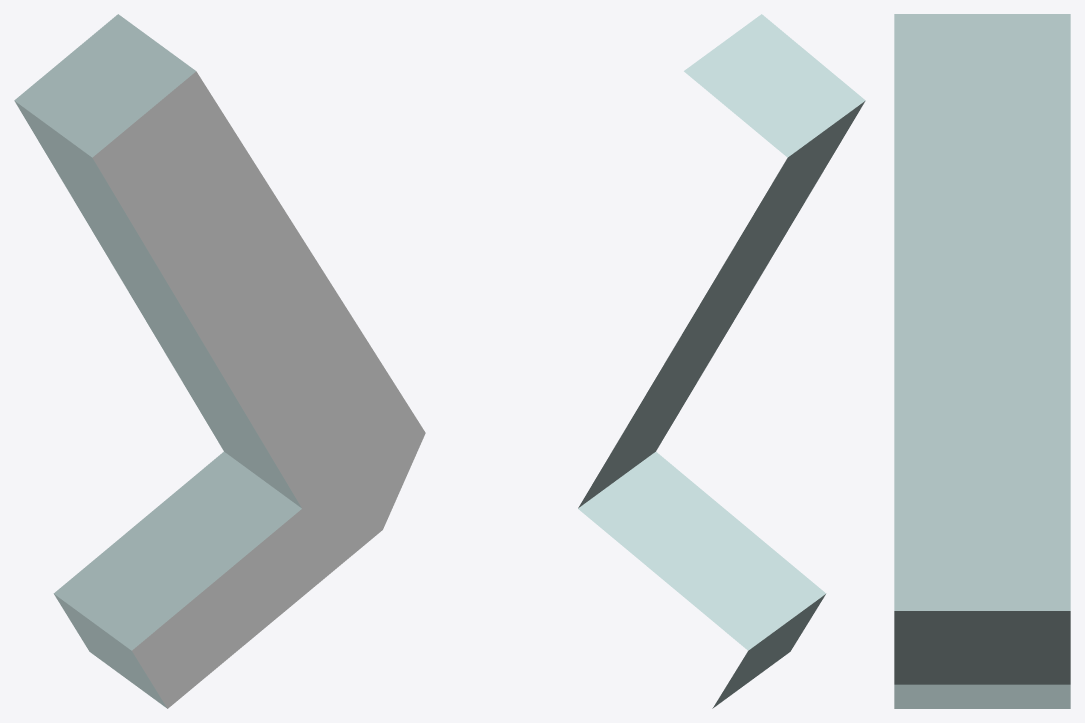
3 renders of one model, left to right at view 1: azimuth 30°, elevation 25°; view 2: azimuth 150°, elevation 25°; view 3: azimuth 270°, elevation 25°, orthographic. The views are drawn at different scales.
Visible parts, largest first — view 1: 0_1_2_1_0_1_3_2_3; view 2: 0_1_2_1_0_1_3_2_3; view 3: 0_1_2_1_0_1_3_2_3.
Part boxes in pixels (x1,y1,x2,y2): 0_1_2_1_0_1_3_2_3: (14,14,425,708); 0_1_2_1_0_1_3_2_3: (578,14,865,708); 0_1_2_1_0_1_3_2_3: (894,14,1070,708).
Size of the model in its own units: 7.39 by 13.36 by 3.
